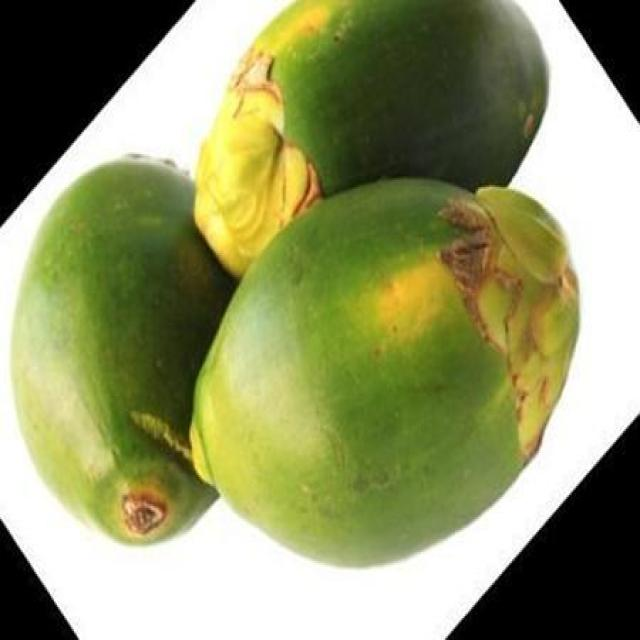good: (189, 176, 585, 572), (192, 0, 552, 282), (4, 154, 239, 554)
